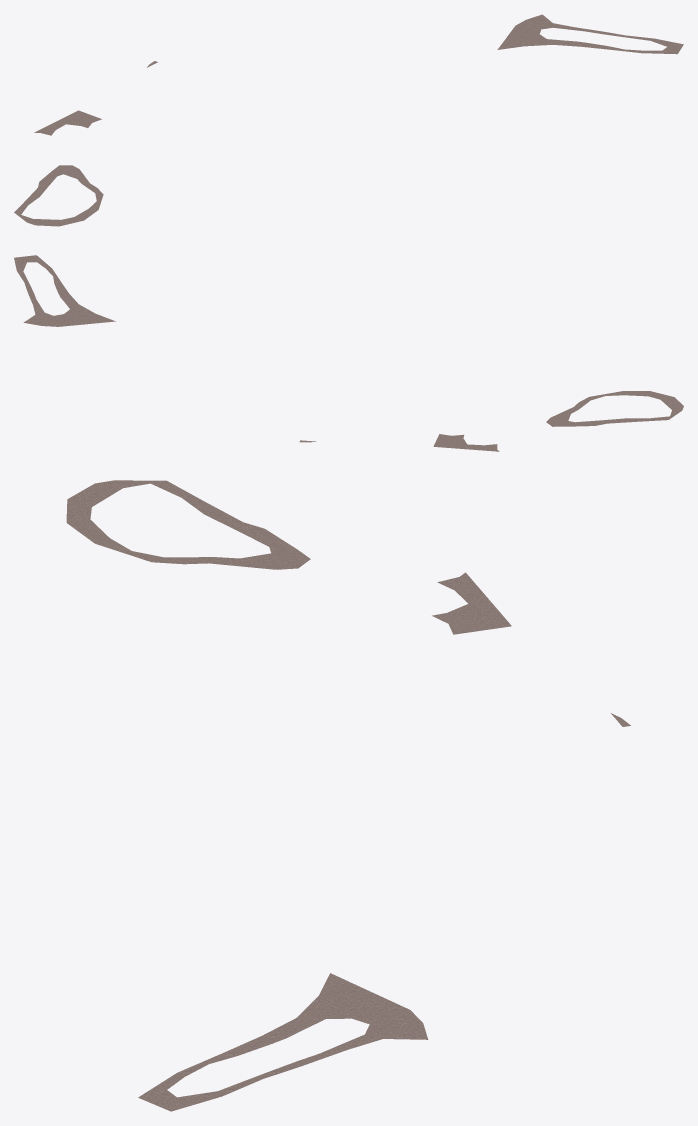
Rendered from kd_connection_town-ground_surface_3_7.glb.
3 views of the same model, one above another, from view 1: azimuth 30°, elevation 25°; view 2: azimuth 150°, elevation 25°; view 3: azimuth 270°, elevation 25° (orthographic). The views are drawn at different scales.
Parts seen in each view (by area): view 1: kd_connection_town-ground_surface_3_7; view 2: kd_connection_town-ground_surface_3_7; view 3: kd_connection_town-ground_surface_3_7.
Part boxes in pixels (x1,y1,x2,y2): kd_connection_town-ground_surface_3_7: (14,14,683,226); kd_connection_town-ground_surface_3_7: (14,255,683,451); kd_connection_town-ground_surface_3_7: (66,480,630,1111).
Size of the model in its own units: 13.39 by 0.07 by 5.01.
1 material, 1 textured.
